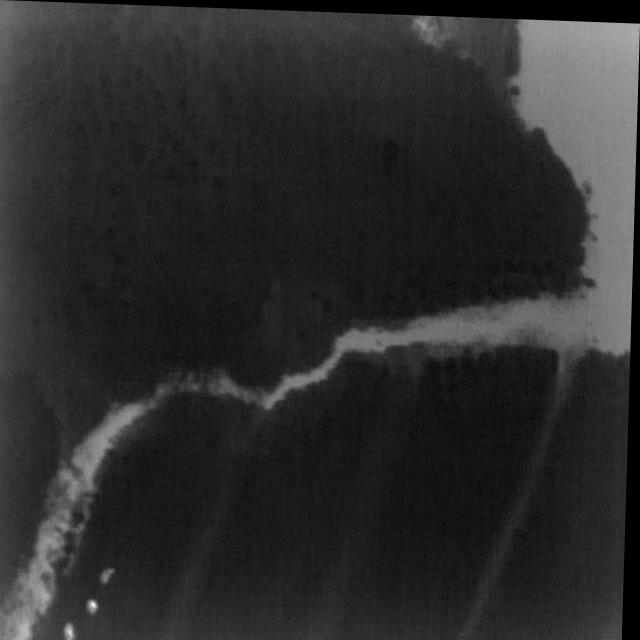deer: (65, 620, 82, 640), (103, 566, 119, 584), (89, 597, 103, 616)
